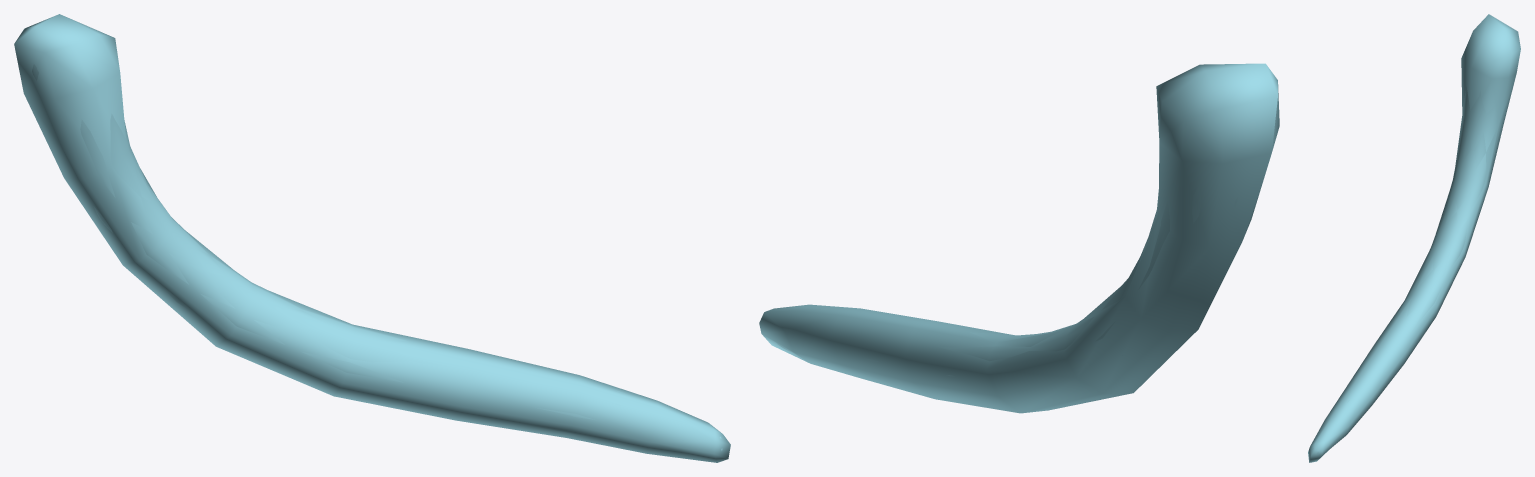
3 views of the same model, side by side, from view 1: azimuth 30°, elevation 25°; view 2: azimuth 150°, elevation 25°; view 3: azimuth 270°, elevation 25° (orthographic). The views are drawn at different scales.
Parts seen in each view (by area): view 1: CC R5 low, CC R5; view 2: CC R5 low, CC R5; view 3: CC R5 low, CC R5.
Boxes of the visible parts, x1,y1,x2,y2 form: CC R5 low: (14, 14, 730, 462); CC R5: (32, 64, 722, 450); CC R5 low: (759, 63, 1279, 413); CC R5: (776, 111, 1276, 376); CC R5 low: (1308, 14, 1520, 462); CC R5: (1312, 78, 1505, 453).
Bounding box in the file's own units: 2.3 × 1.79 × 1.21.
